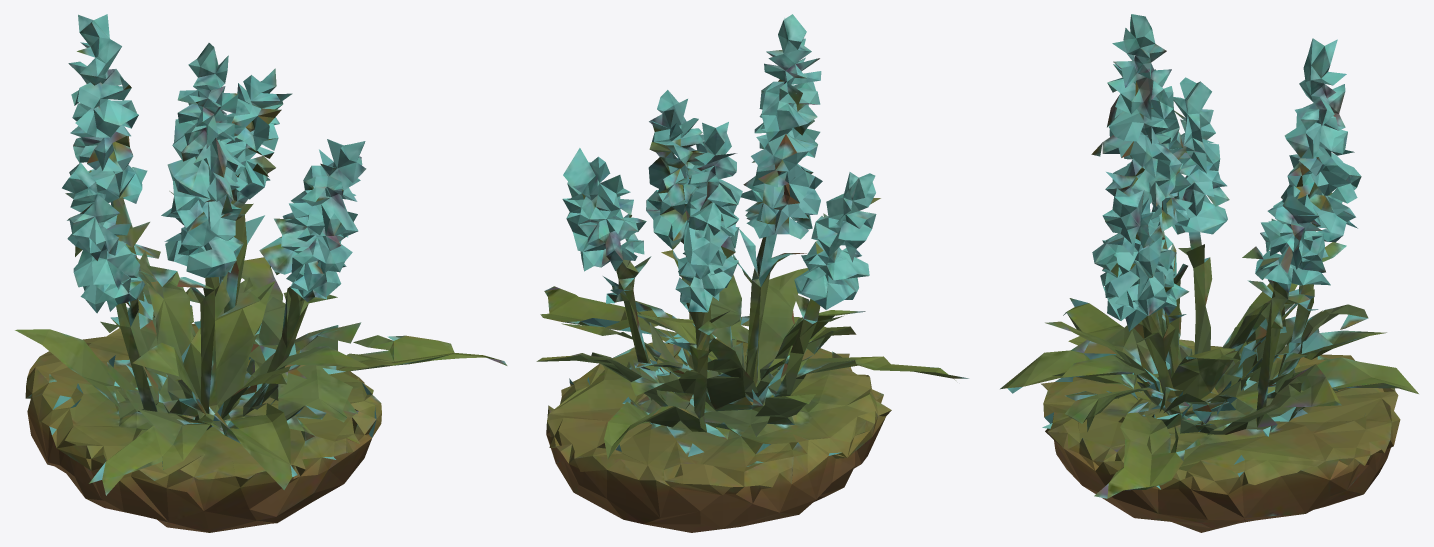
Rendered from flower_b_teal.glb.
3 views of the same model, side by side, from view 1: azimuth 30°, elevation 25°; view 2: azimuth 150°, elevation 25°; view 3: azimuth 270°, elevation 25° (orthographic). The views are drawn at different scales.
Visible parts, largest first — view 1: geometry_0; view 2: geometry_0; view 3: geometry_0.
Part boxes in pixels (x1=…): geometry_0: x1=15, y1=14, x2=507, y2=532; geometry_0: x1=536, y1=14, x2=968, y2=532; geometry_0: x1=1000, y1=14, x2=1418, y2=532.
Size of the model in its own units: 0.8 by 0.8593 by 0.7005.
1 material, 1 textured.
